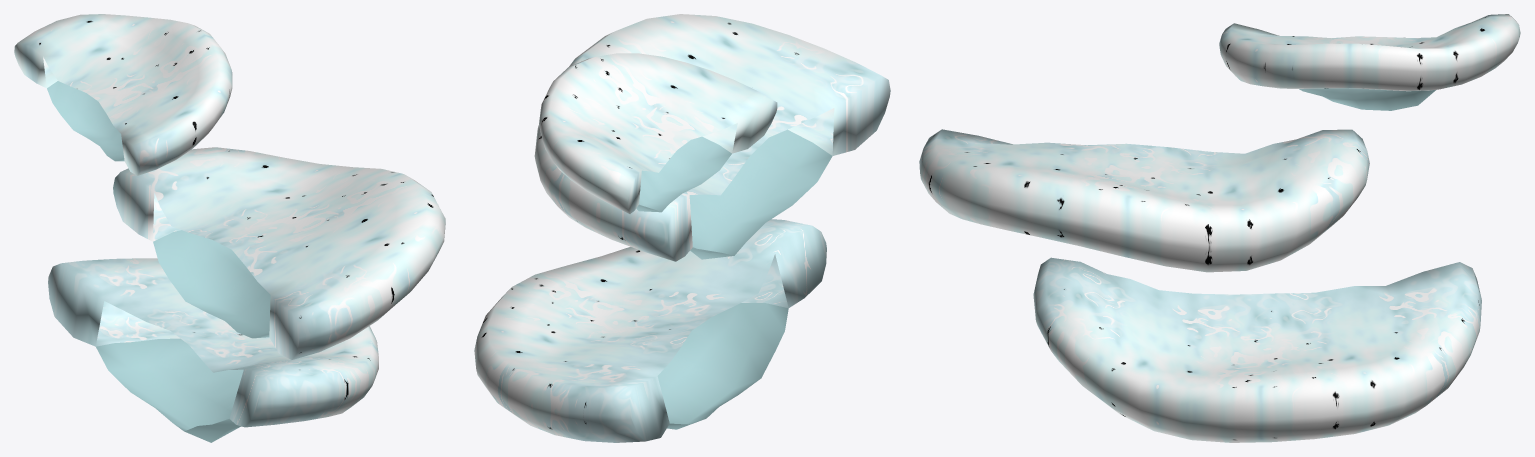
File: Wallshrooms.fbx
The picture shows the model from 3 angles, left to right: view 1: azimuth 30°, elevation 25°; view 2: azimuth 150°, elevation 25°; view 3: azimuth 270°, elevation 25°; orthographic projection. The views are drawn at different scales.
Visible parts, largest first — view 1: Wallshroom2, Wallshroom3, Wallshroom1; view 2: Wallshroom3, Wallshroom2, Wallshroom1; view 3: Wallshroom3, Wallshroom2, Wallshroom1.
Part boxes in pixels (bbox=[...]): Wallshroom2: bbox=[113, 147, 445, 359]; Wallshroom3: bbox=[48, 258, 378, 442]; Wallshroom1: bbox=[14, 14, 232, 175]; Wallshroom3: bbox=[474, 219, 826, 442]; Wallshroom2: bbox=[534, 14, 890, 261]; Wallshroom1: bbox=[539, 53, 777, 213]; Wallshroom3: bbox=[1033, 257, 1481, 442]; Wallshroom2: bbox=[919, 129, 1369, 272]; Wallshroom1: bbox=[1219, 14, 1520, 110].
Bounding box in the file's own units: 226 × 314 × 440.
